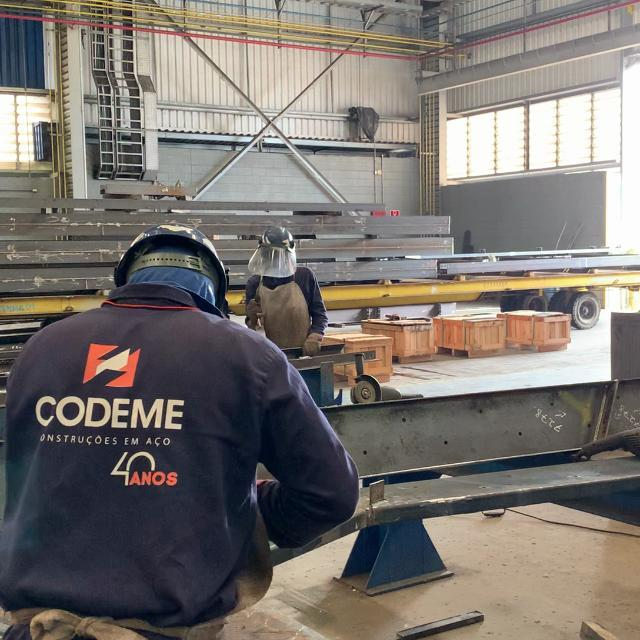eye-glass: (245, 247, 298, 280)
face-shield: (299, 334, 326, 359)
glove: (113, 223, 231, 303), (256, 227, 295, 248)
mask: (2, 220, 365, 628), (243, 223, 329, 356)
